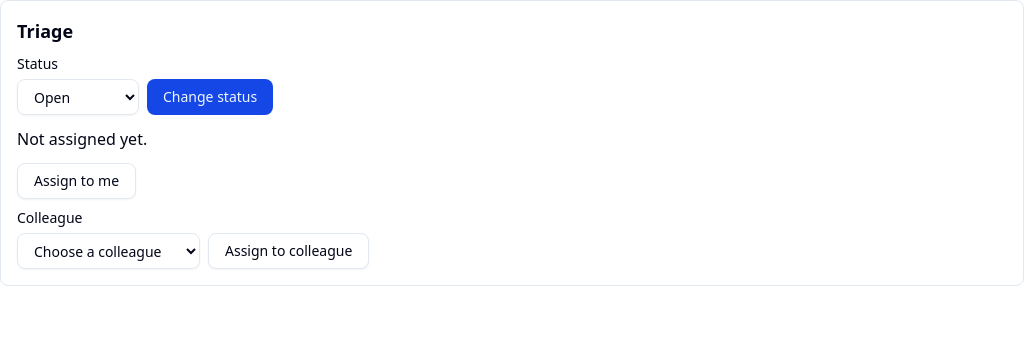
Scenario: staff assign the ticket to the colleague they picked, by their user name
Select "Second Staff (staff-b)" in the dropdown labelled "Colleague" at (108, 251), box 17,233 -> 200,269
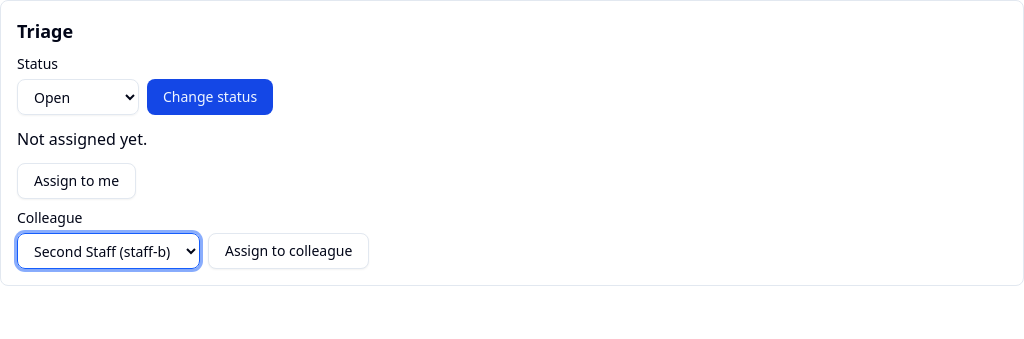
Click the button "Assign to colleague" at (289, 251), box 208,233 -> 369,269
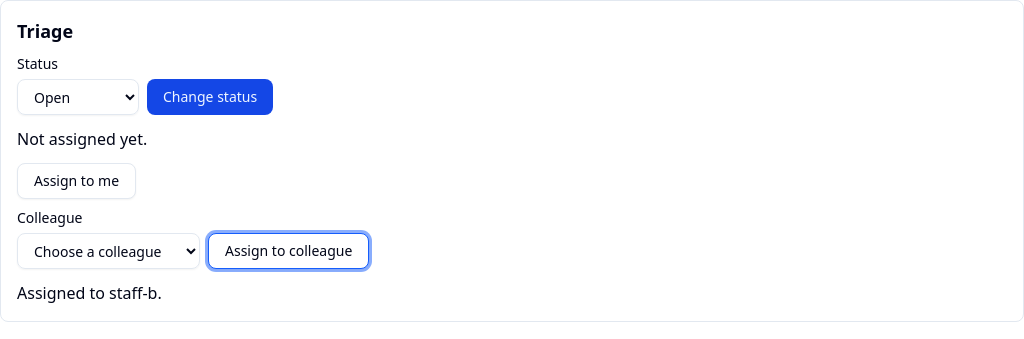
Expected: the message reads "Assigned to staff-b.", 17,282 -> 162,304
